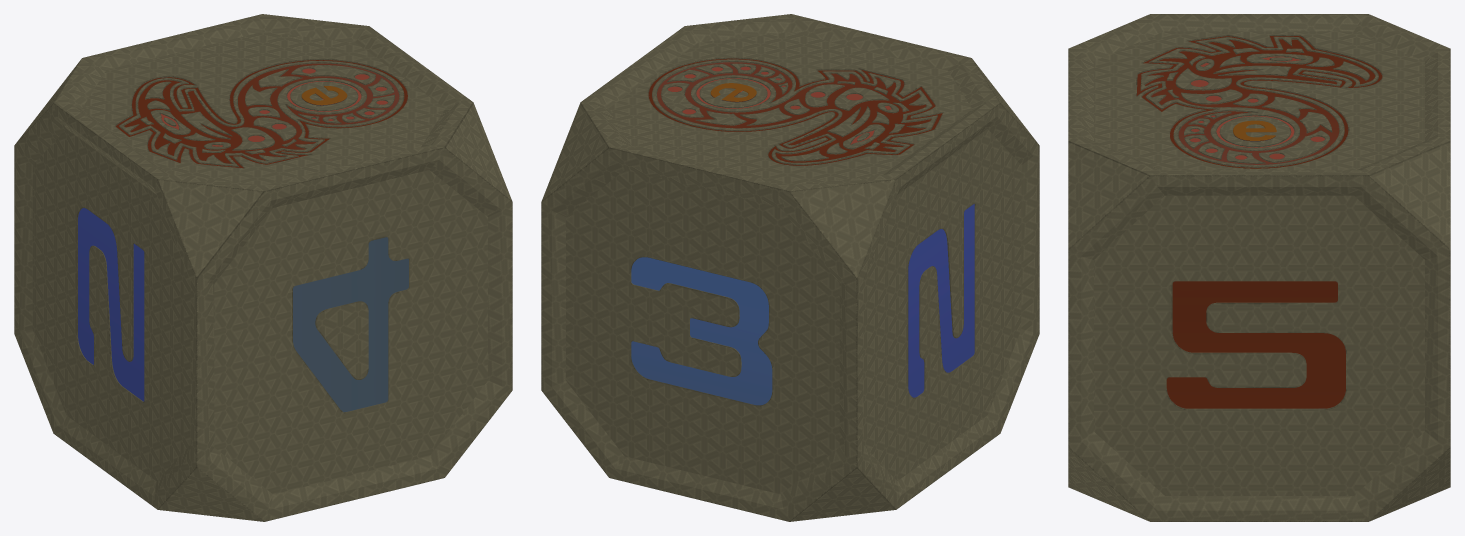
Rendered from errand6.gltf.
3 views of the same model, side by side, from view 1: azimuth 30°, elevation 25°; view 2: azimuth 150°, elevation 25°; view 3: azimuth 270°, elevation 25° (orthographic). The views are drawn at different scales.
Parts seen in each view (by area): view 1: Action_Cube; view 2: Action_Cube; view 3: Action_Cube.
Part boxes in pixels (left/top/right/bottom): Action_Cube: left=14, top=14, right=512, bottom=521; Action_Cube: left=541, top=14, right=1039, bottom=521; Action_Cube: left=1068, top=14, right=1450, bottom=521.
Size of the model in its own units: 104 by 104 by 104.
1 material, 1 textured.
